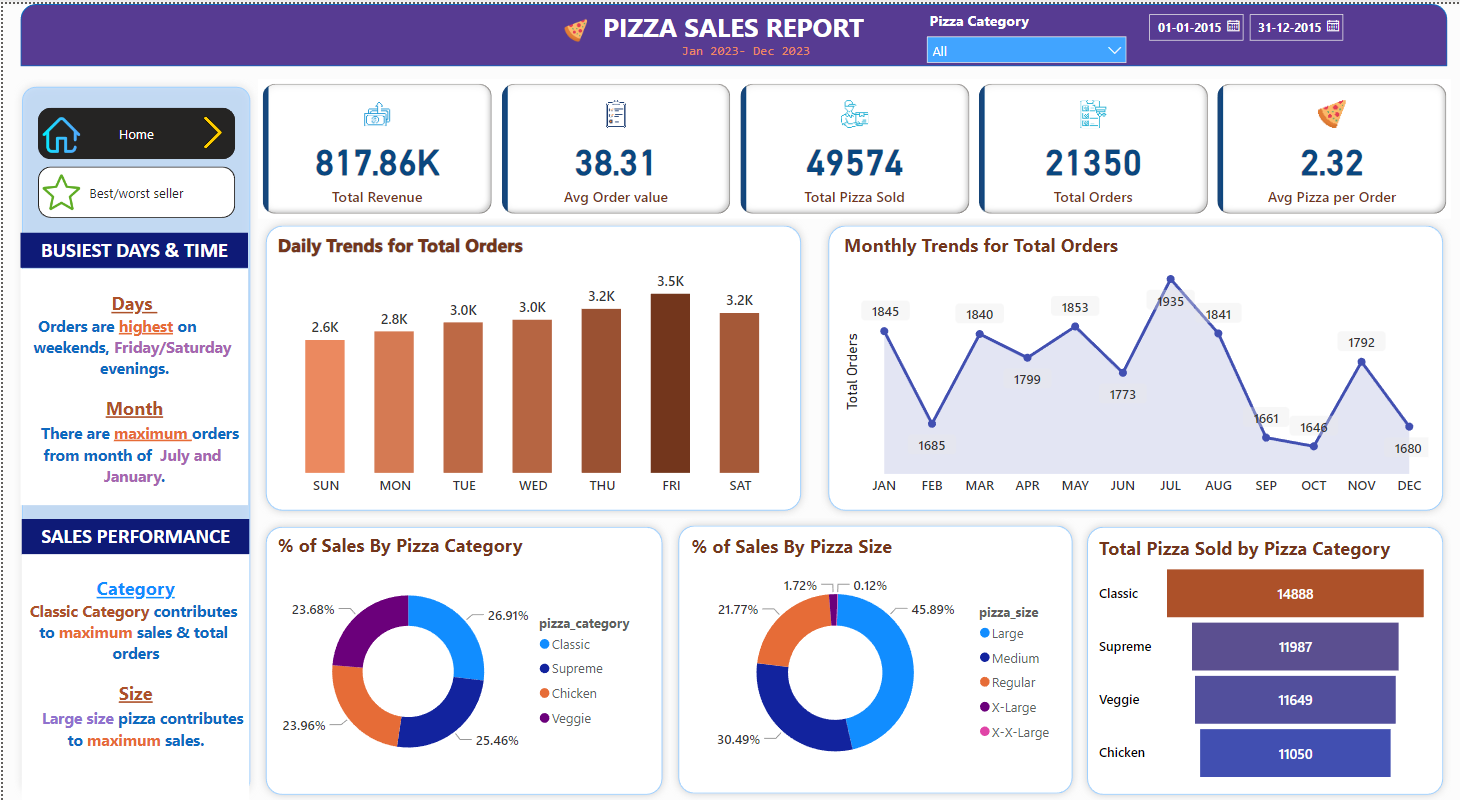

Layout of this report page (visuals, bound fields, positions):
{"tool":"powerbi","page":{"name":"Home","canvas":[1500,820],"ordinal":0},"visuals":[{"type":"shape","box":[11.1,76.6,250.6,742],"z":0},{"type":"cardVisual","fields":{"Data":["pizza_sales.Total Revenue","pizza_sales.Avg Order value","pizza_sales.Total Pizza Sold","pizza_sales.Total Orders","pizza_sales.Avg Pizza per Order"]},"box":[261.7,76.6,1225.1,143.4],"z":1000},{"type":"shape","box":[18.1,0,1464.6,64],"z":2000},{"type":"textbox","box":[604.2,0,291,50.1],"z":3000},{"type":"textbox","box":[685,33.4,154.5,30.6],"z":4000},{"type":"image","box":[570.8,0,33.4,54.3],"z":5000},{"type":"shape","box":[261.7,220,565.2,309.1],"z":6000},{"type":"columnChart","title":"Daily Trends for Total Orders","fields":{"Category":["pizza_sales.Order Day"],"Y":["pizza_sales.Total Orders"]},"box":[277,235.3,534.6,278.4],"z":7000},{"type":"shape","box":[839.5,220,647.4,309.1],"z":8000},{"type":"areaChart","title":"Monthly Trends for Total Orders","fields":{"Y":["pizza_sales.Total Orders"],"Category":["pizza_sales.Order Month"]},"box":[859,235.3,609.8,278.4],"z":9000},{"type":"shape","box":[261.7,529,423.2,291],"z":10000},{"type":"shape","box":[685,527.6,420.4,291],"z":11000},{"type":"shape","box":[1105.4,529,381.5,291],"z":12000},{"type":"donutChart","title":"% of Sales By Pizza Category","fields":{"Category":["pizza_sales.pizza_category"],"Y":["pizza_sales.Total Revenue"]},"box":[277,543,387,260.3],"z":13000},{"type":"donutChart","title":"% of Sales By Pizza Size","fields":{"Y":["pizza_sales.Total Revenue"],"Category":["pizza_sales.pizza_size"]},"box":[701.7,544.3,387,260.3],"z":14000},{"type":"funnel","title":"Total Pizza Sold by Pizza Category","fields":{"Category":["pizza_sales.pizza_category"],"Y":["pizza_sales.Total Pizza Sold"]},"box":[1120.7,545.7,348,258.9],"z":15000},{"type":"textbox","box":[18.1,235.3,233.9,36.2],"z":16000},{"type":"textbox","box":[18.1,271.5,233.9,242.2],"z":17000},{"type":"textbox","box":[19.5,565.2,233.9,253.4],"z":18000},{"type":"textbox","box":[19.5,529,233.9,36.2],"z":19000},{"type":"slicer","fields":{"Values":["pizza_sales.pizza_category"]},"box":[938.3,1.4,225.5,62.6],"z":19001},{"type":"slicer","fields":{"Values":["pizza_sales.order_date"]},"box":[1163.9,0,218.6,64],"z":19002},{"type":"pageNavigator","box":[35.3,106,202.4,53],"z":19003},{"type":"pageNavigator","box":[35.3,167.1,202.4,53],"z":19004},{"type":"image","box":[194.4,98,43.4,69.1],"z":19005},{"type":"image","box":[35.3,106,48.2,56.2],"z":19006},{"type":"image","box":[35.3,167.1,48.2,53],"z":19007}]}

Visuals, with their boxes in screenshot pixels (x1, y1, x2, y2), scaled from the page's 1500x820 canvas onto the 1460x800 screenshot:
shape: <bbox>11, 75, 255, 799</bbox>
cardVisual - pizza_sales.Total Revenue x pizza_sales.Avg Order value: <bbox>255, 75, 1447, 215</bbox>
shape: <bbox>18, 0, 1443, 62</bbox>
textbox: <bbox>588, 0, 871, 49</bbox>
textbox: <bbox>667, 33, 817, 62</bbox>
image: <bbox>556, 0, 588, 53</bbox>
shape: <bbox>255, 215, 805, 516</bbox>
"Daily Trends for Total Orders" columnChart: <bbox>270, 230, 790, 501</bbox>
shape: <bbox>817, 215, 1447, 516</bbox>
"Monthly Trends for Total Orders" areaChart: <bbox>836, 230, 1430, 501</bbox>
shape: <bbox>255, 516, 667, 799</bbox>
shape: <bbox>667, 515, 1076, 799</bbox>
shape: <bbox>1076, 516, 1447, 799</bbox>
"% of Sales By Pizza Category" donutChart: <bbox>270, 530, 646, 784</bbox>
"% of Sales By Pizza Size" donutChart: <bbox>683, 531, 1060, 785</bbox>
"Total Pizza Sold by Pizza Category" funnel: <bbox>1091, 532, 1430, 785</bbox>
textbox: <bbox>18, 230, 245, 265</bbox>
textbox: <bbox>18, 265, 245, 501</bbox>
textbox: <bbox>19, 551, 247, 799</bbox>
textbox: <bbox>19, 516, 247, 551</bbox>
slicer - pizza_sales.pizza_category: <bbox>913, 1, 1133, 62</bbox>
slicer - pizza_sales.order_date: <bbox>1133, 0, 1346, 62</bbox>
pageNavigator: <bbox>34, 103, 231, 155</bbox>
pageNavigator: <bbox>34, 163, 231, 215</bbox>
image: <bbox>189, 96, 231, 163</bbox>
image: <bbox>34, 103, 81, 158</bbox>
image: <bbox>34, 163, 81, 215</bbox>
